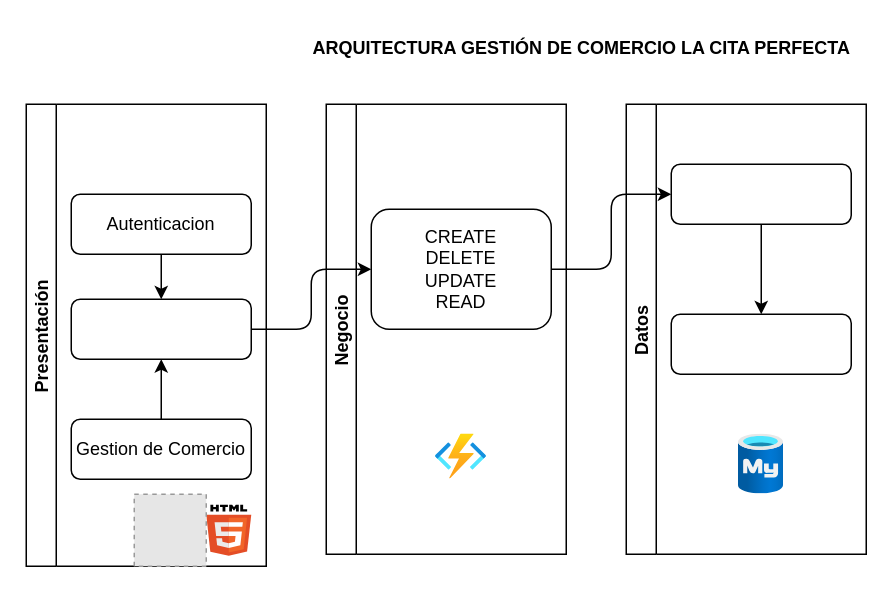
Some shapes in this 893 by 593 pixel diagram are drawn without their labels. Grey dashed boxes stand in for pictures. The shapes that lost their labels are listed below. From the top down, each one's centre as x and y in pixels, then its label:
At (x=760, y=193): "Repositorio".
At (x=160, y=328): "Controlador".
At (x=760, y=343): "Base de Datos".
